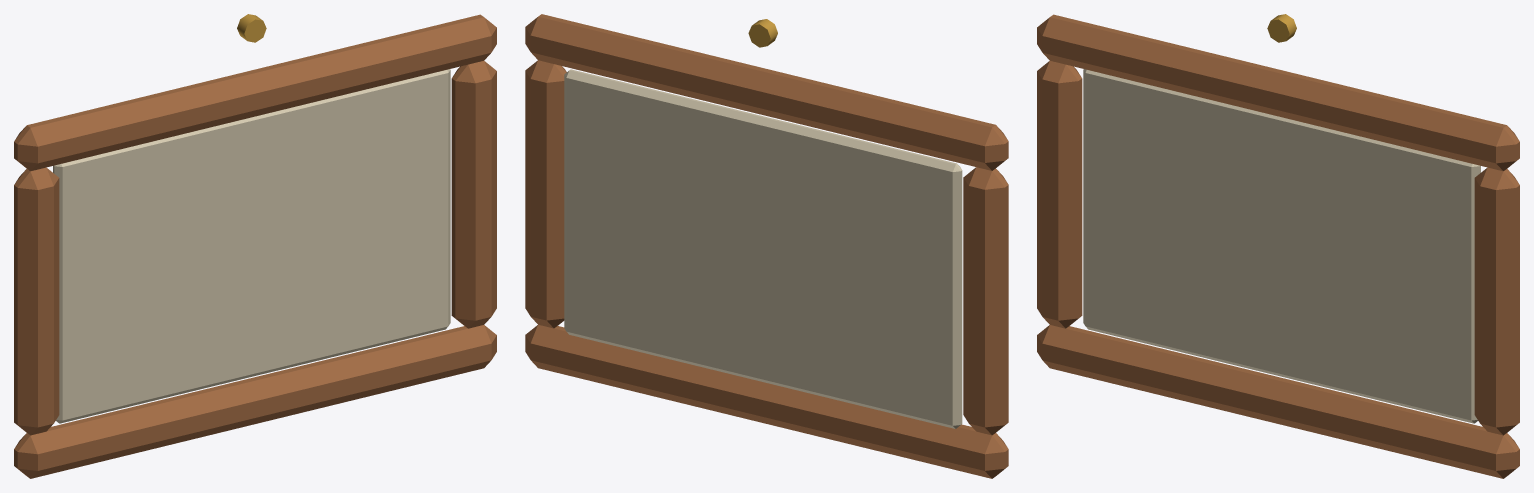
File: tally_frame.glb
3 views of the same model, side by side, from view 1: azimuth 30°, elevation 25°; view 2: azimuth 150°, elevation 25°; view 3: azimuth 330°, elevation 25° (orthographic).
Visible parts, largest first — view 1: body; view 2: body; view 3: body.
Boxes of the visible parts, <box> form: body: <box>14,14,496,478</box>; body: <box>525,14,1008,478</box>; body: <box>1037,14,1519,478</box>.
Size of the model in its own units: 1.5 by 1.21 by 0.1.
